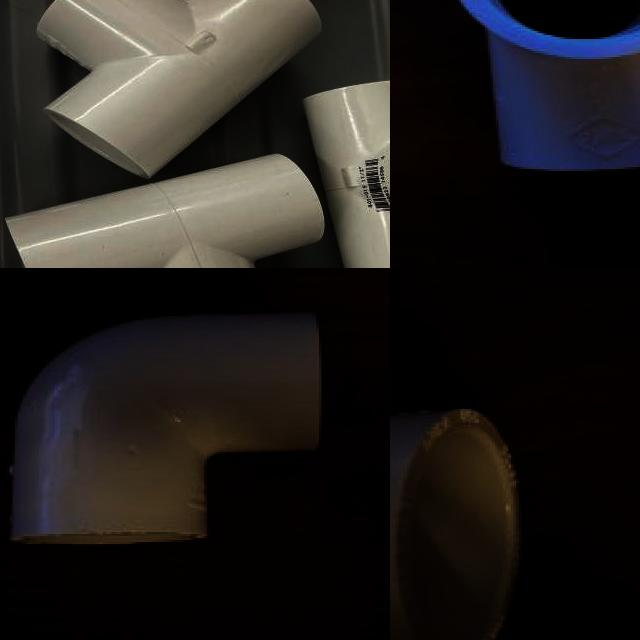L Joint: (9, 312, 323, 549)
T Joint: (36, 0, 321, 178), (5, 154, 326, 268), (390, 410, 517, 640), (302, 81, 390, 268)
